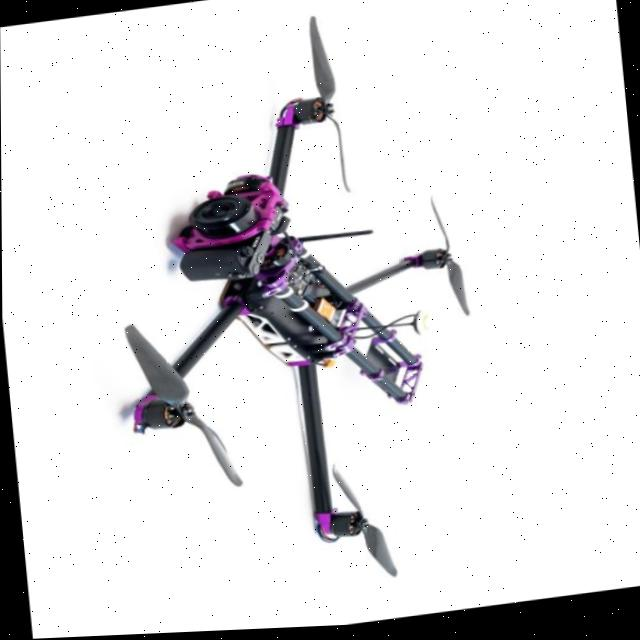drones: (51, 0, 539, 638)
